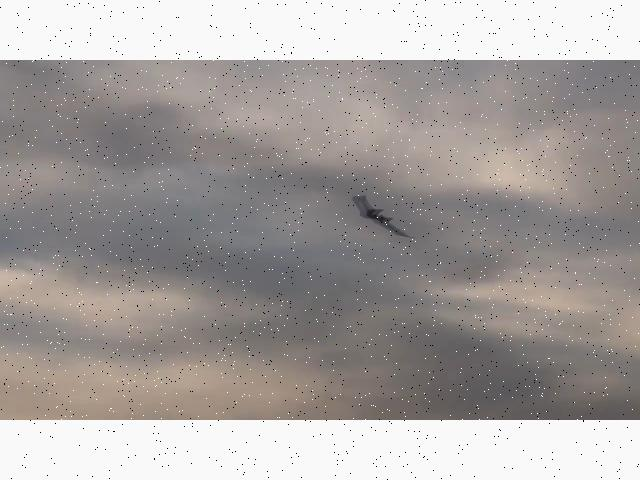Anti-Drone: (353, 196, 415, 240)
